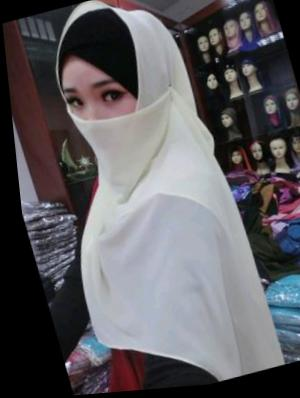WRONG: (56, 62, 159, 163)
